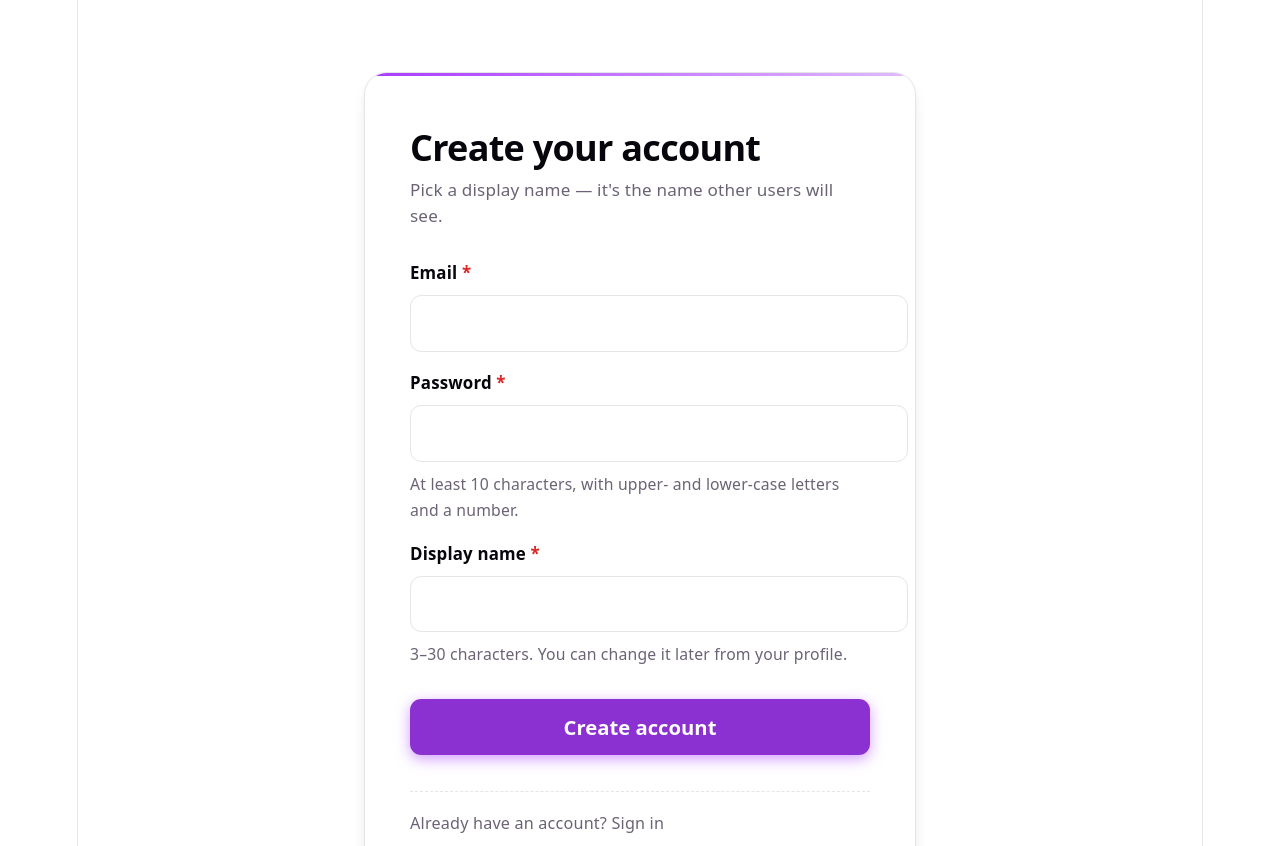
Scenario: SignUpPage › shows a top-level alert for EMAIL_ALREADY_REGISTERED and offers links (FR-004)
Type "a@b.co" into the field labelled "Email *" at (659, 324), box [410,295,908,352]
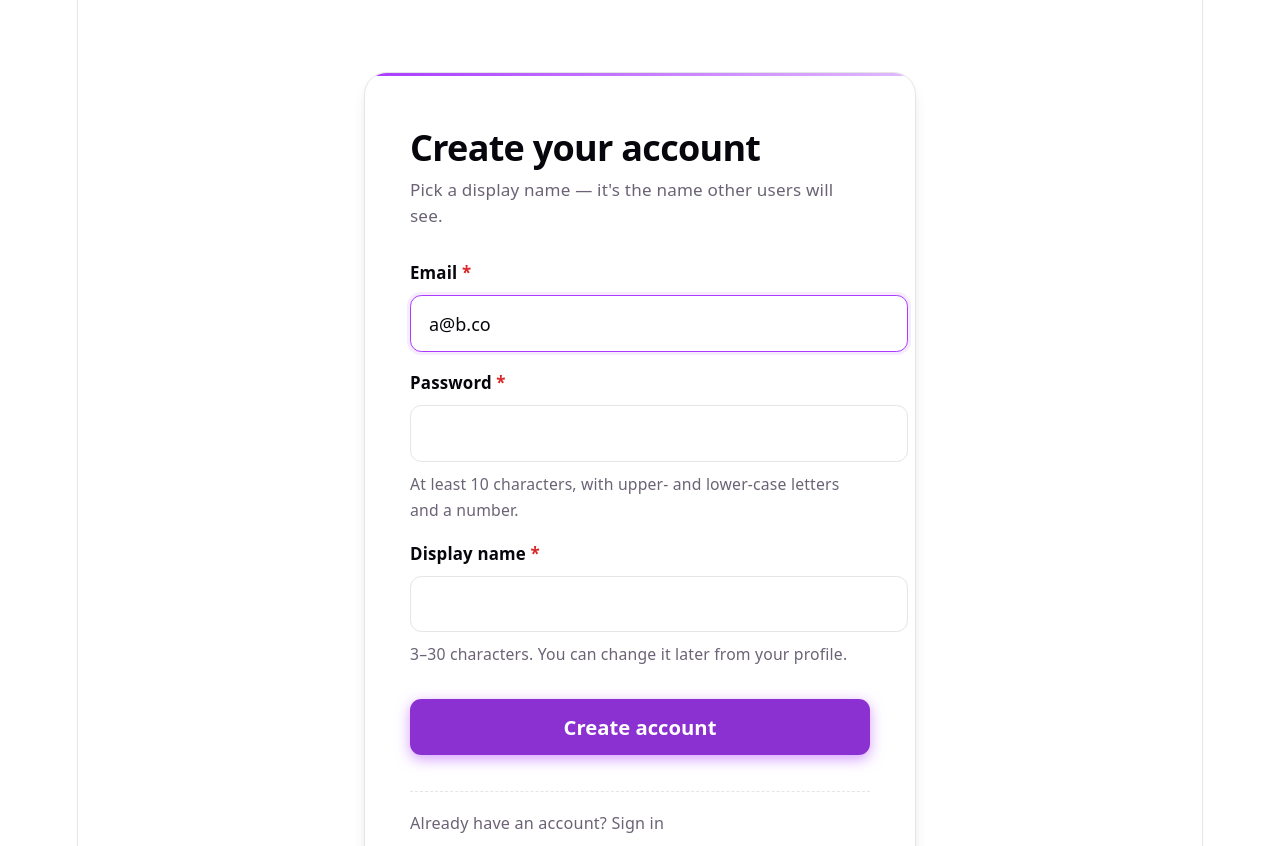
Type "Passw0rd!!" into the password field labelled "Password *" at (659, 433), box [410,405,908,462]
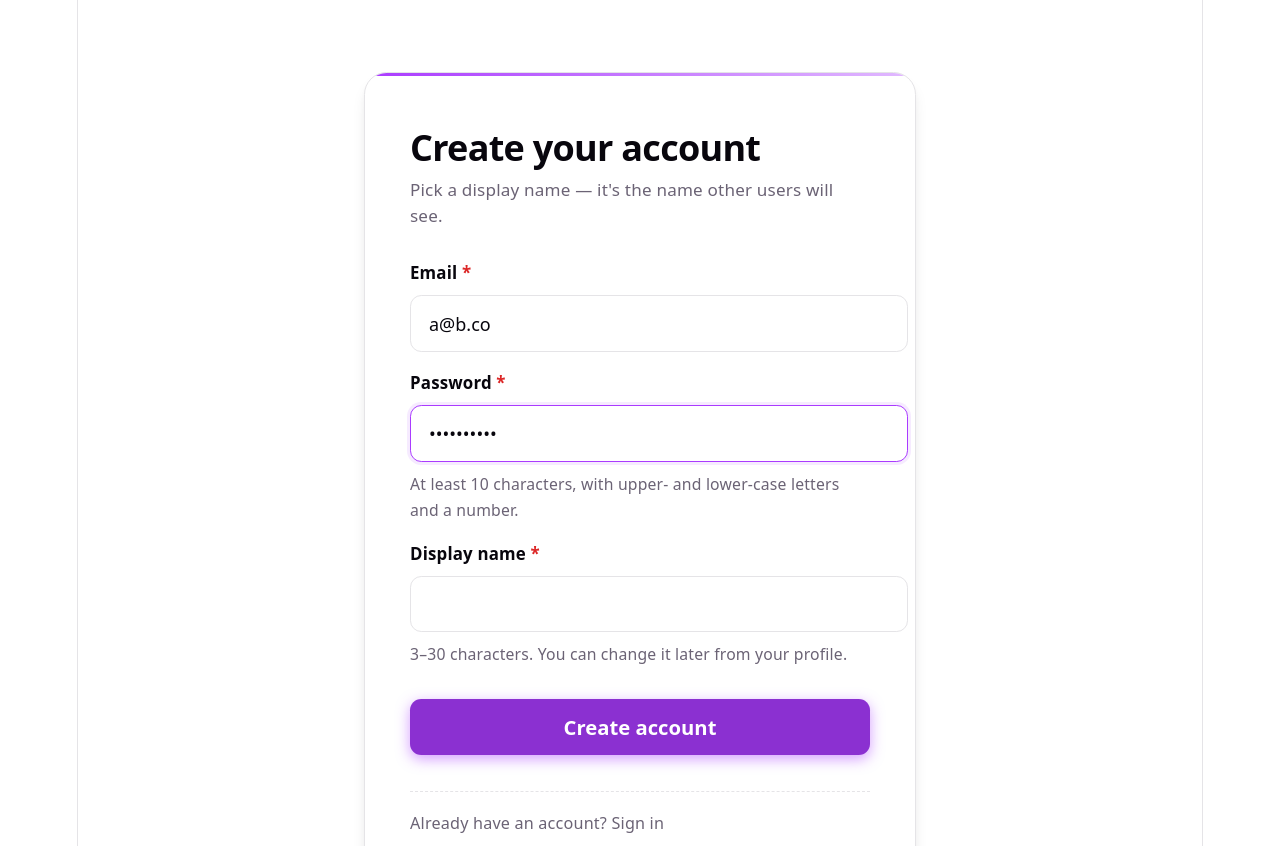
Type "Alice" into the field labelled "Display name *" at (659, 604), box [410,576,908,632]
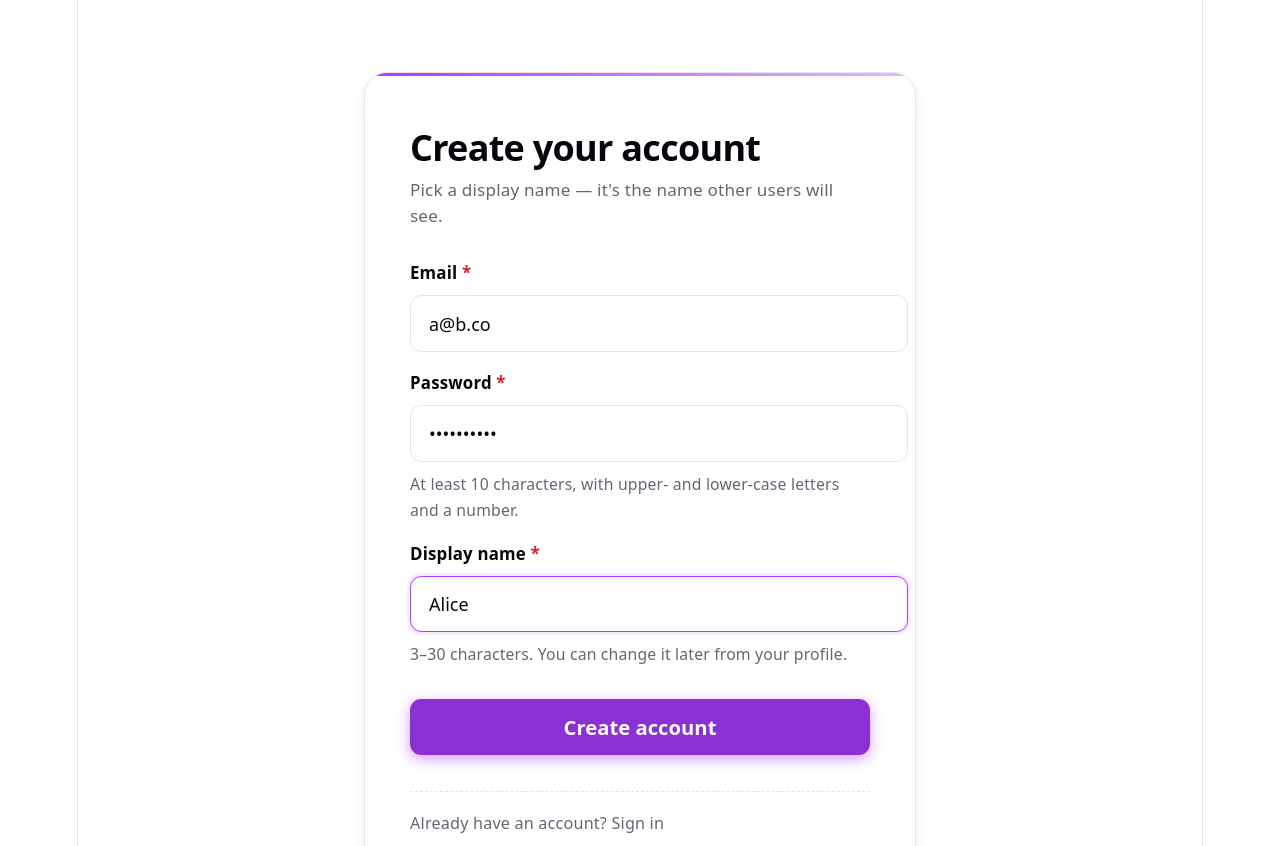
Click the button "Create account" at (640, 727), box [410,699,870,755]
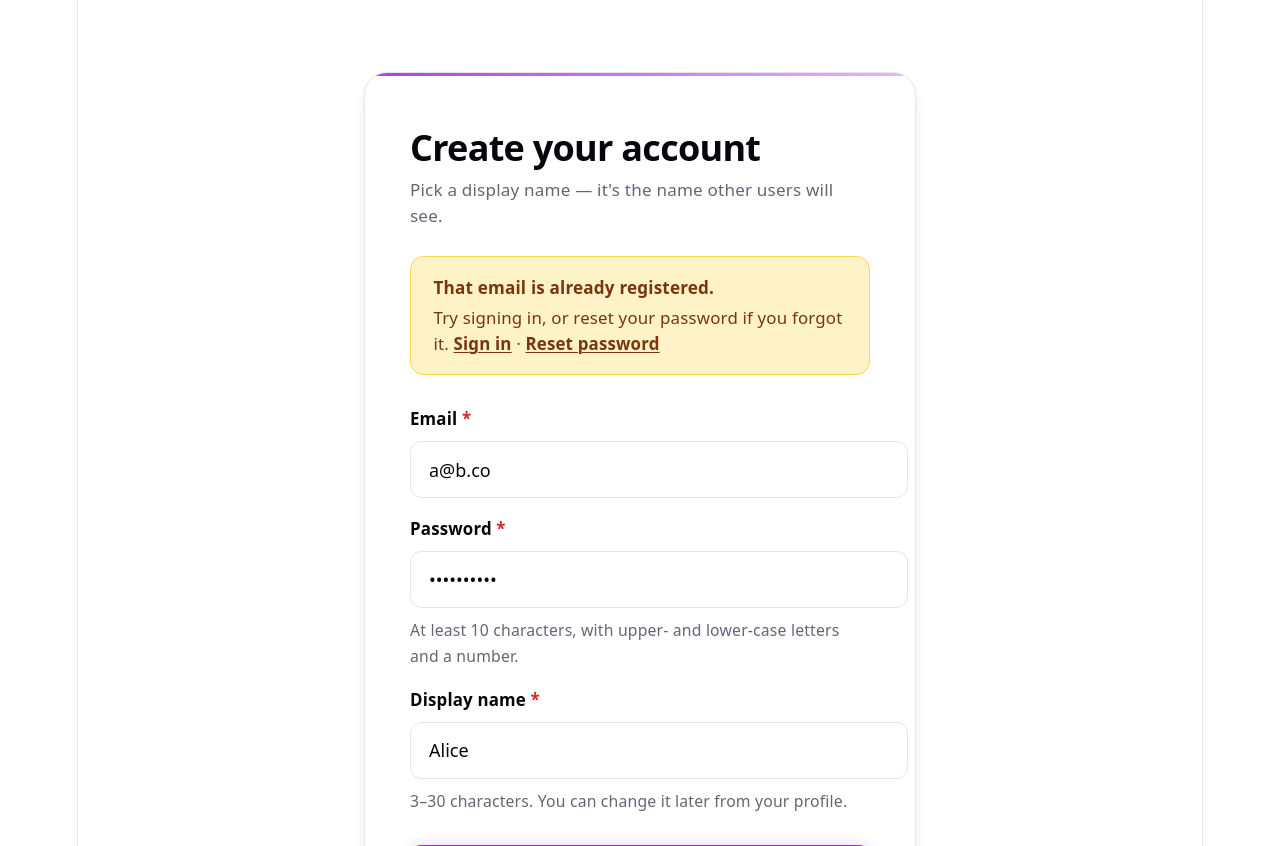
expect the link to "/signin" is shown: met, box [454,332,512,355]
expect the link to "/forgot-password" is shown: met, box [526,332,660,355]
